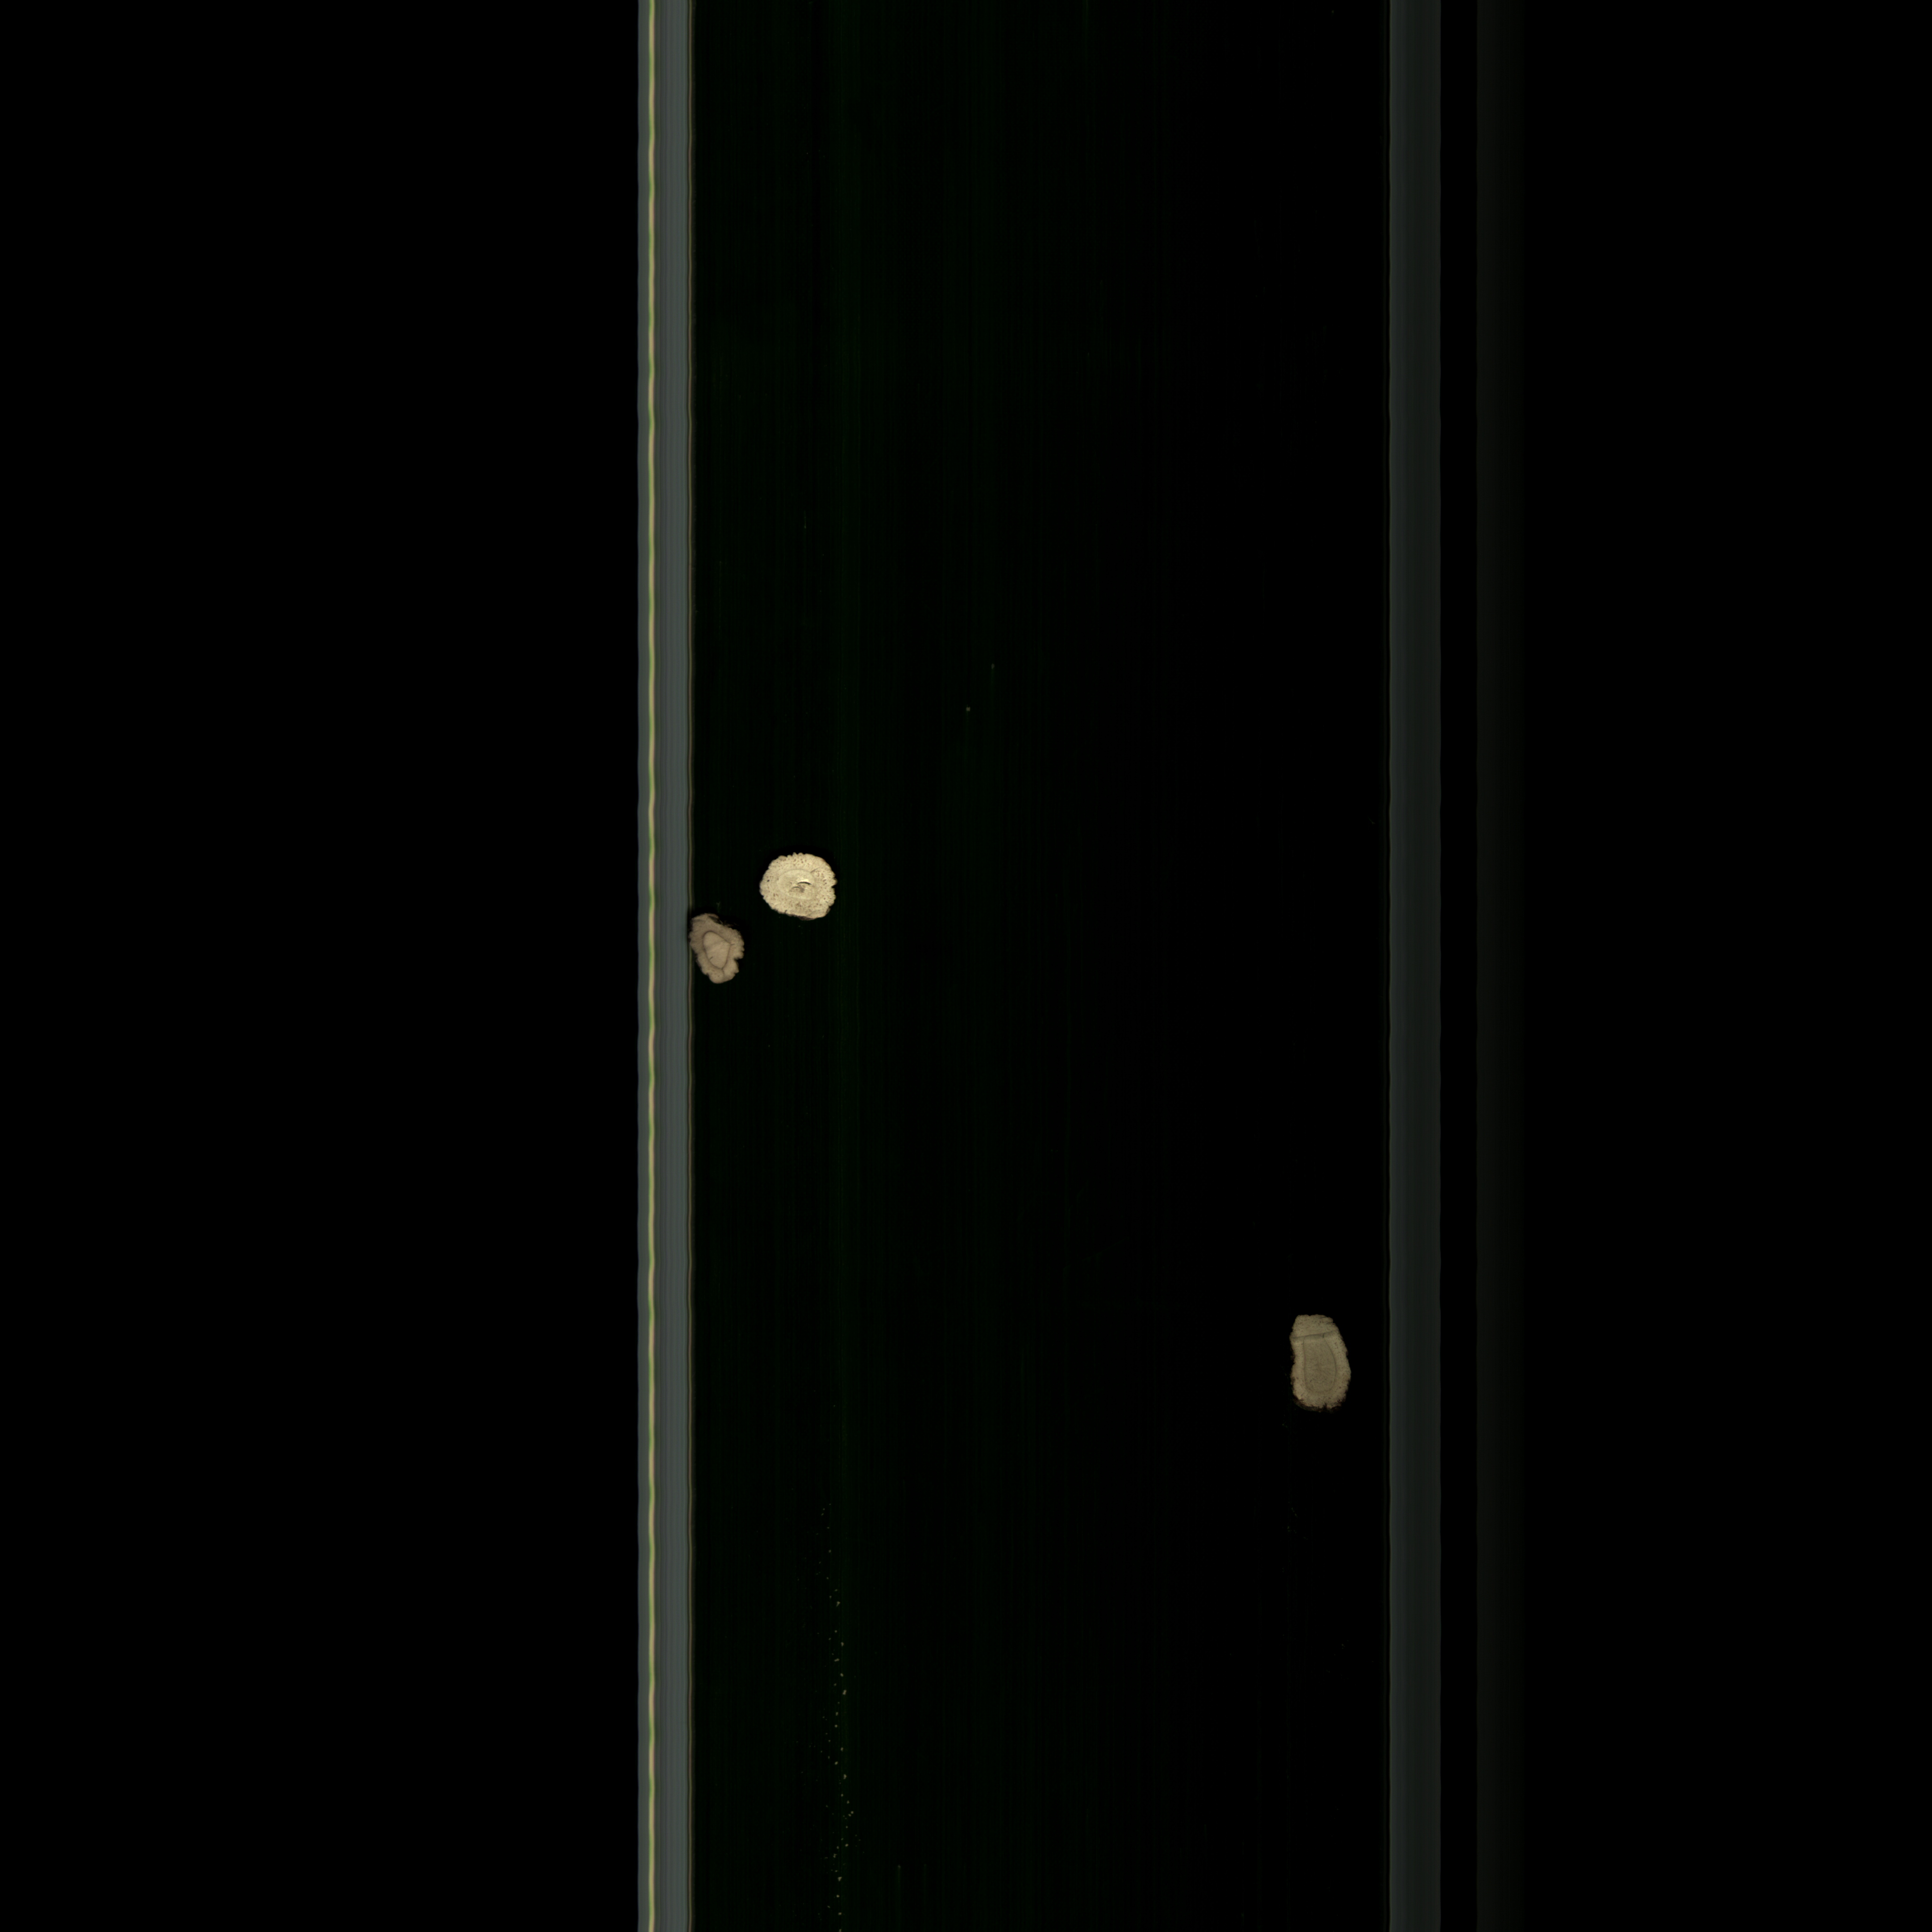hole: (752, 846, 858, 929)
moldy: (1274, 1304, 1357, 1424), (685, 902, 750, 993)
